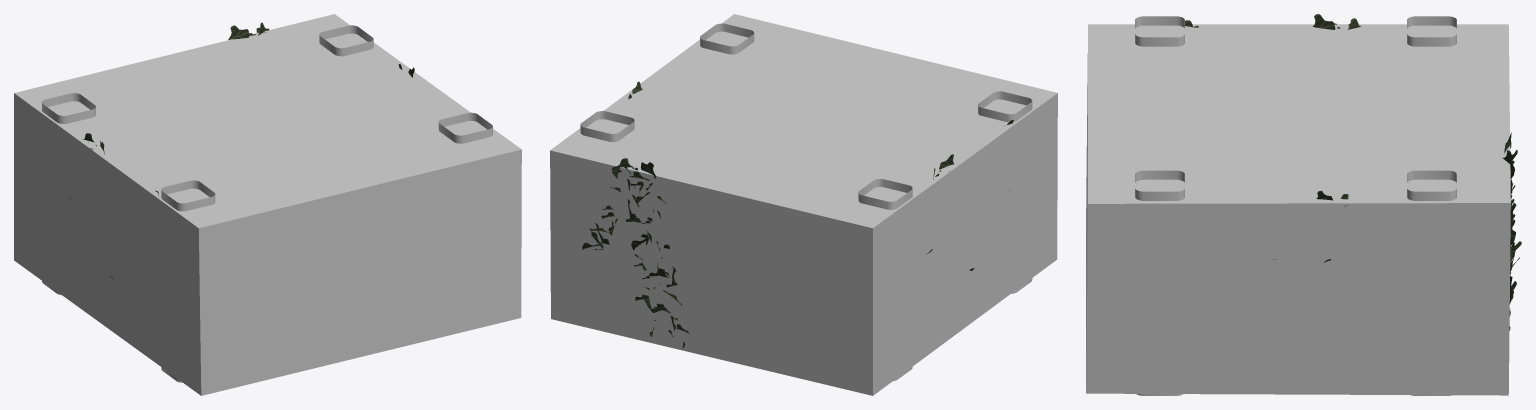
3 renders of one model, left to right at view 1: azimuth 30°, elevation 25°; view 2: azimuth 150°, elevation 25°; view 3: azimuth 270°, elevation 25°, orthographic. The views are drawn at different scales.
Visible parts, largest first — view 1: walls_Cube.005, pillars_Cube.001, ivy_ivy_Ivy_ivy.145; view 2: walls_Cube.005, pillars_Cube.001, ivy_ivy_Ivy_ivy.145; view 3: walls_Cube.005, pillars_Cube.001, ivy_ivy_Ivy_ivy.145.
Part boxes in pixels (x1=…): walls_Cube.005: x1=14, y1=14, x2=521, y2=395; pillars_Cube.001: x1=42, y1=25, x2=492, y2=382; ivy_ivy_Ivy_ivy.145: x1=67, y1=22, x2=414, y2=280; walls_Cube.005: x1=550, y1=14, x2=1057, y2=395; pillars_Cube.001: x1=580, y1=23, x2=1032, y2=381; ivy_ivy_Ivy_ivy.145: x1=582, y1=81, x2=1013, y2=348; walls_Cube.005: x1=1086, y1=24, x2=1510, y2=395; pillars_Cube.001: x1=1135, y1=16, x2=1456, y2=395; ivy_ivy_Ivy_ivy.145: x1=1185, y1=14, x2=1521, y2=330.
Bounding box in the file's own units: 4.05 × 2.18 × 4.1.
